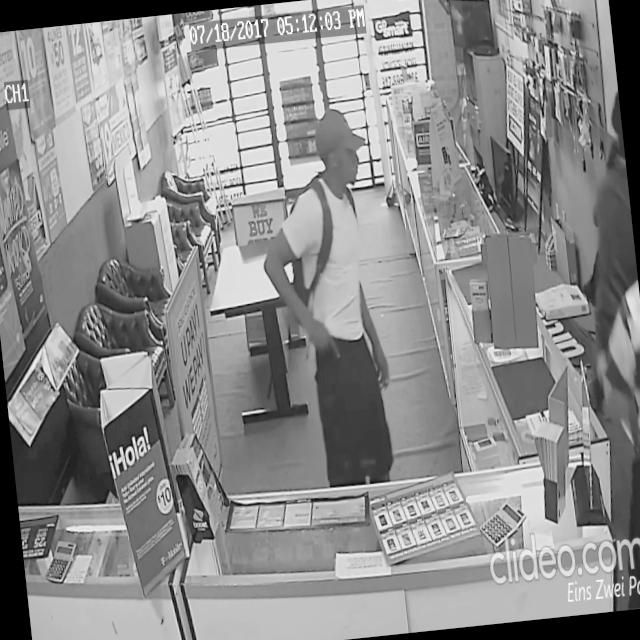gun: (313, 325, 352, 390)
person: (554, 81, 640, 452), (570, 92, 640, 521), (579, 189, 640, 610)
person with a gun: (244, 101, 402, 494)
